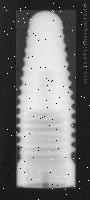Camlog: (16, 10, 76, 188)
